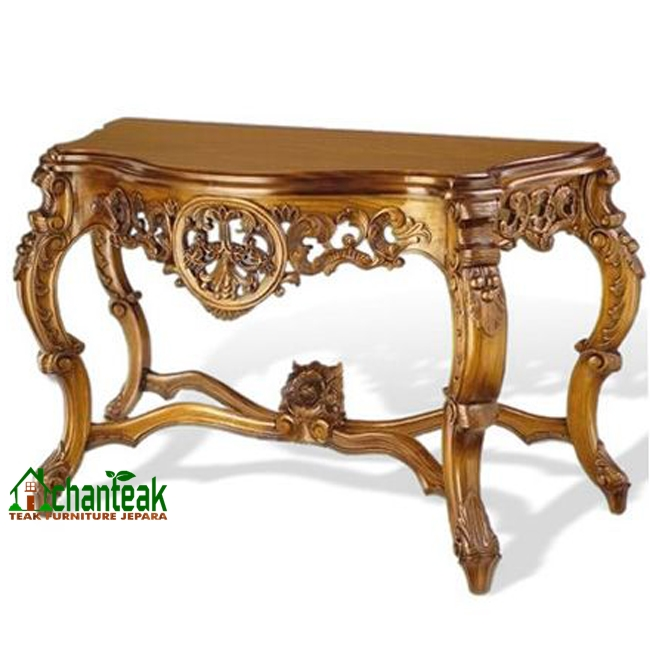Carving Table: (34, 108, 649, 591)
